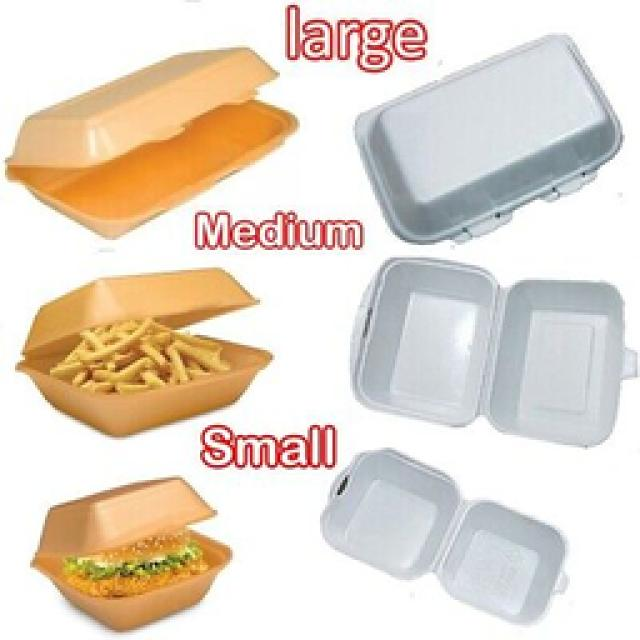styrofoam: (351, 30, 625, 245), (4, 48, 301, 240), (352, 258, 638, 446), (14, 267, 273, 440), (321, 449, 570, 622), (33, 476, 232, 633)
